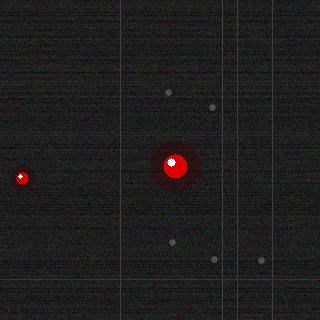red_fault: (161, 152, 189, 180), (14, 170, 30, 186)
